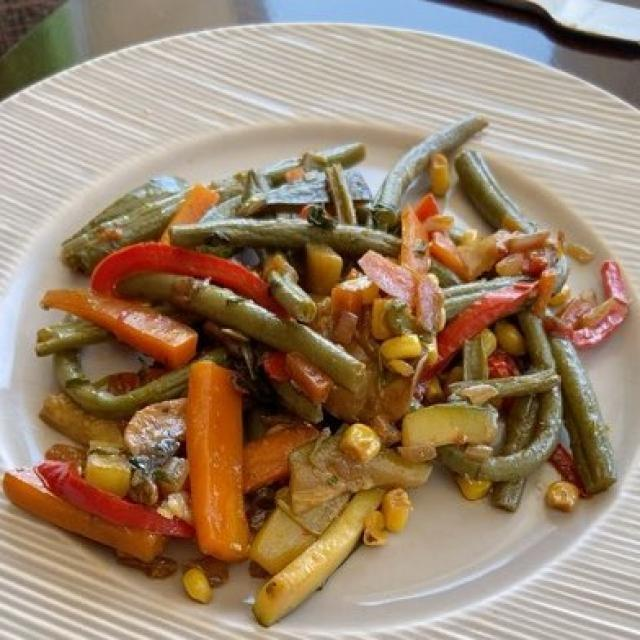mixed-vegetables: (26, 139, 615, 618)
